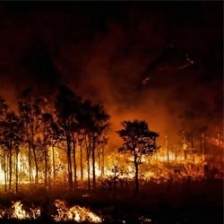fire: (1, 151, 209, 182), (3, 201, 100, 222)
